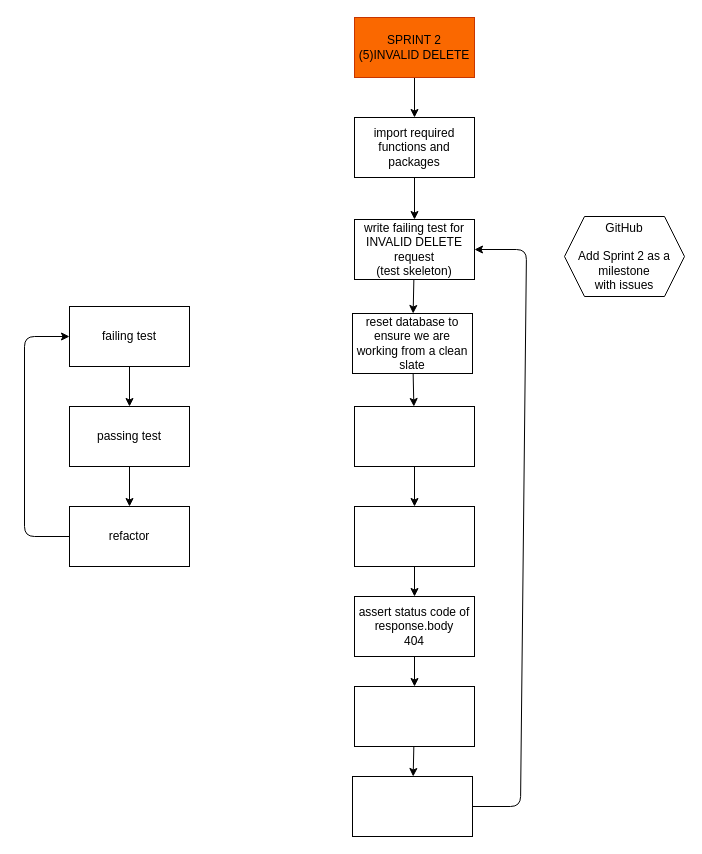
Some shapes in this 702 by 854 pixel diagram are drawn without their labels. Here are the shapes that lost their labels. From the top down, the centre of each, then its label:
the point at 414,436: define endpoint and request type we are testing
the point at 414,536: assert structure of response.body
the point at 414,716: assert header of response.body
the point at 412,806: repeat for POST call
